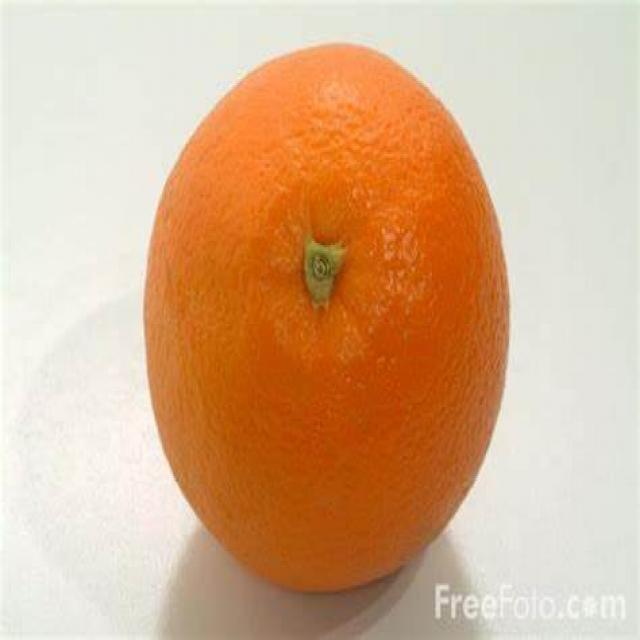Orange: (141, 41, 516, 598)
